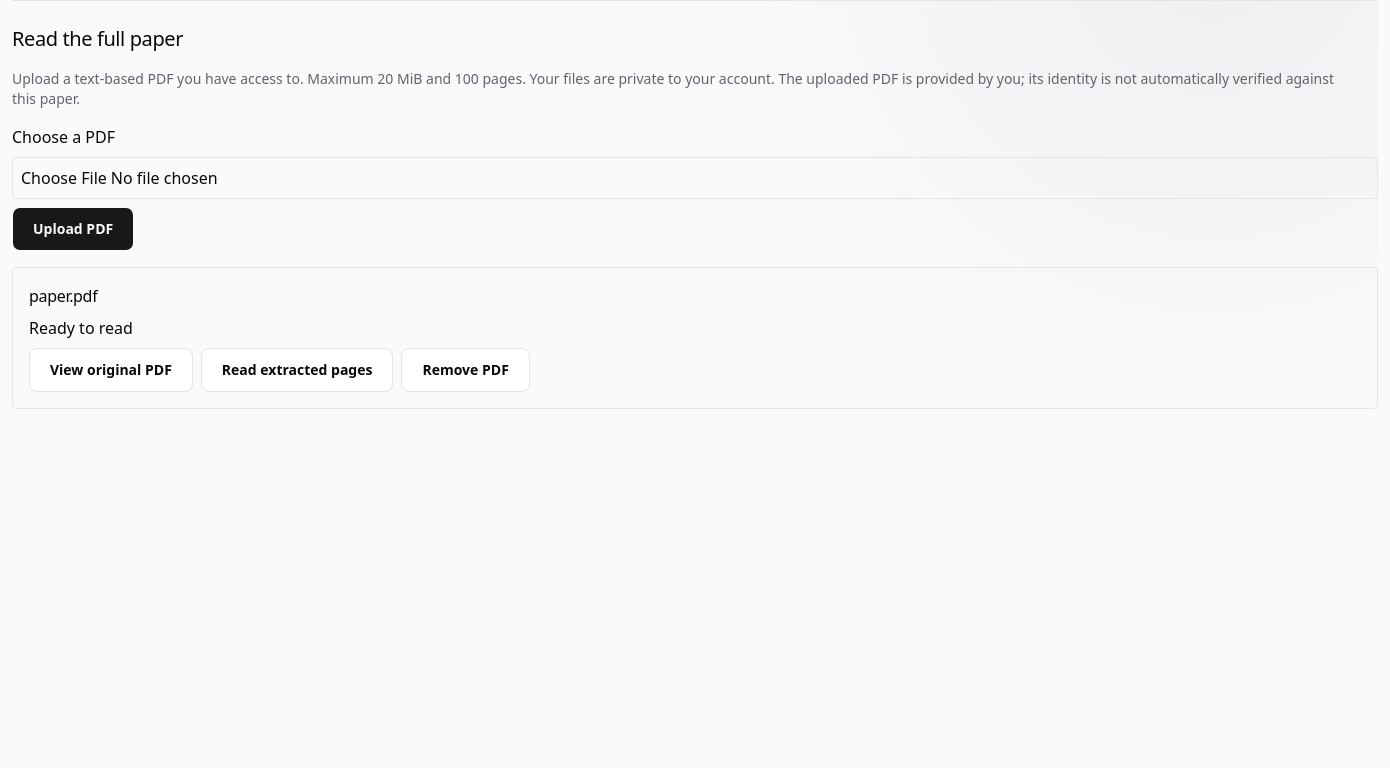
Test case: shows safe page text only for ready documents
The width and height of the screenshot is (1390, 768).
Click the button "Read extracted pages": (297, 370) [201, 348, 393, 392]
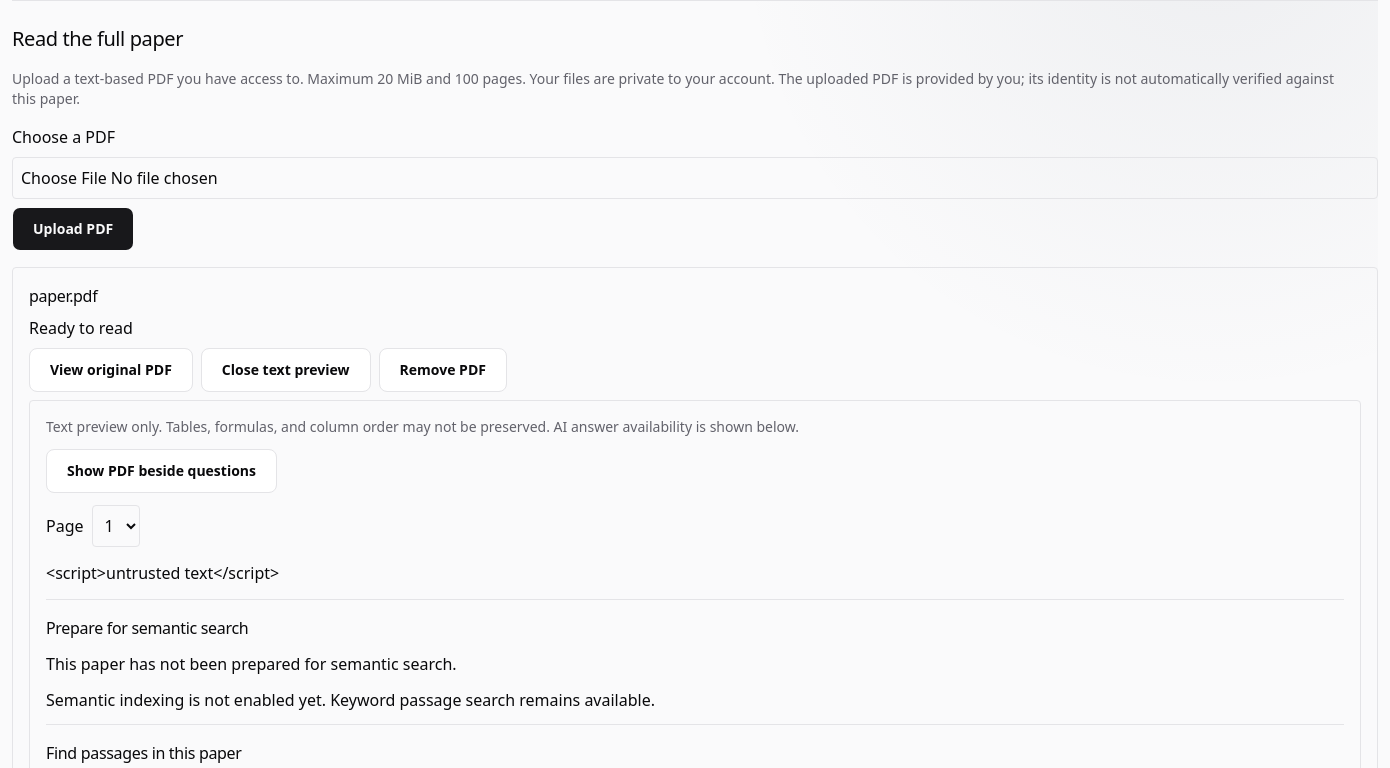
Expected: the text "<script>untrusted text</script>" is shown, [46, 562, 279, 584]
